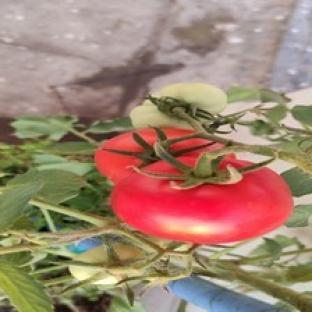Tomato: (112, 168, 292, 243), (95, 129, 157, 183), (152, 83, 227, 114), (69, 246, 123, 285)
